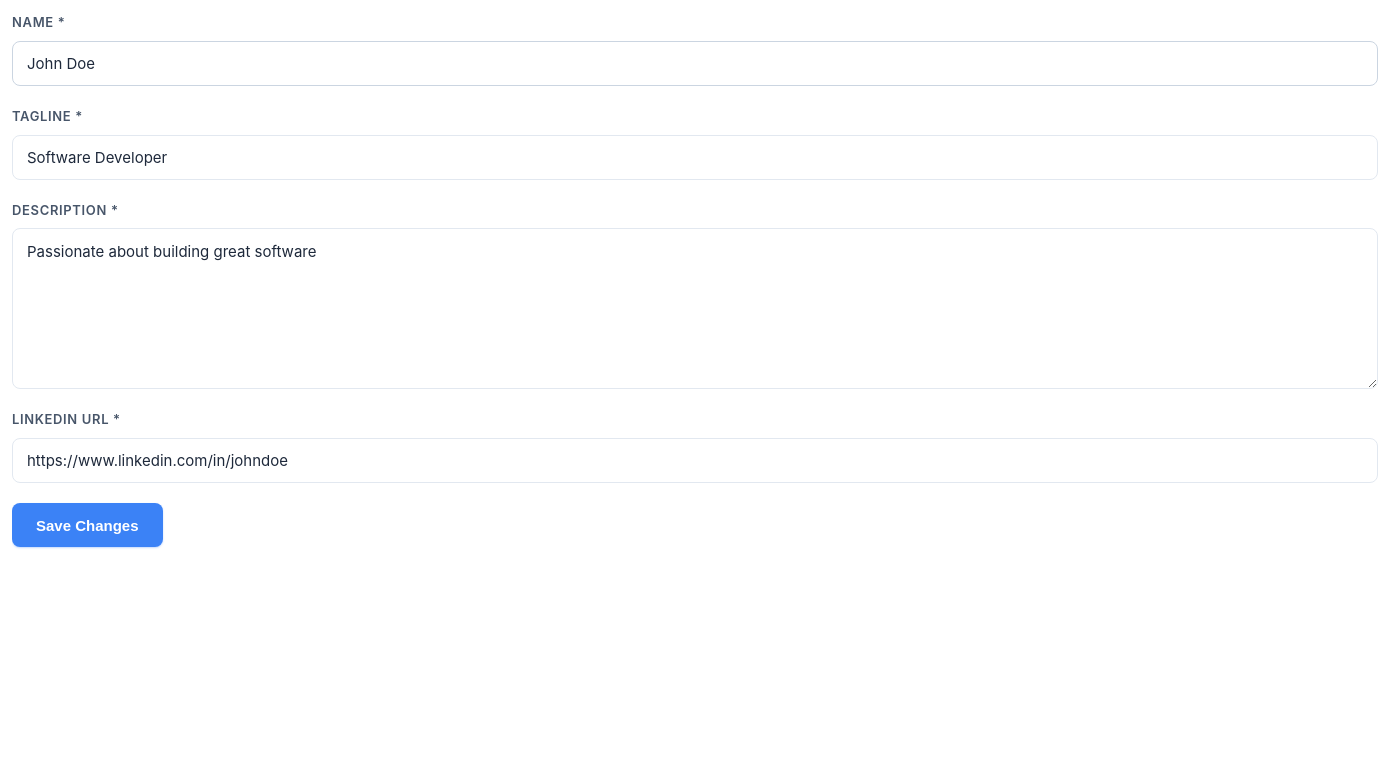
PersonalInfoForm › displays validation errors for empty required fields
Step 1. Clear the field labelled "Name *" → (695, 63), box [12,41,1378,86]
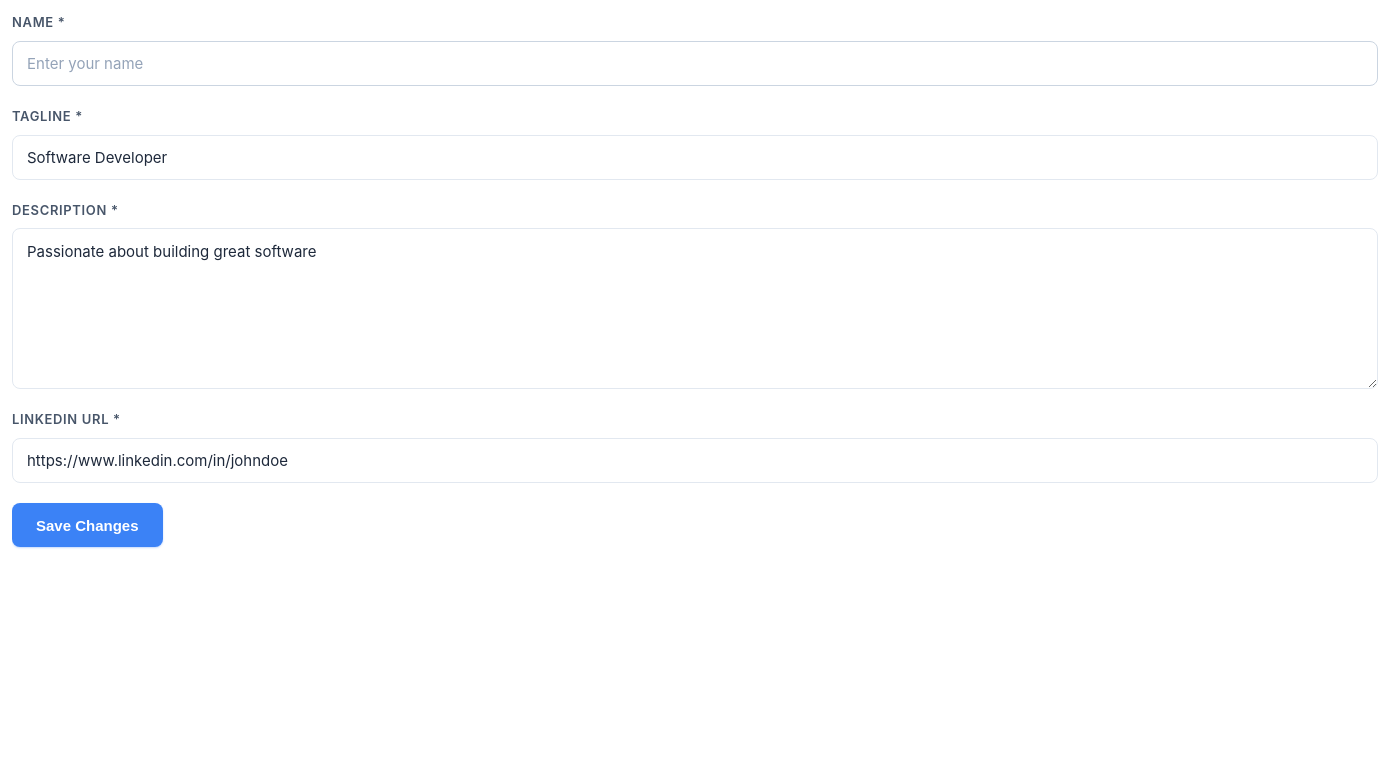
Step 2. Clear the field labelled "Tagline *" → (695, 157), box [12,135,1378,180]
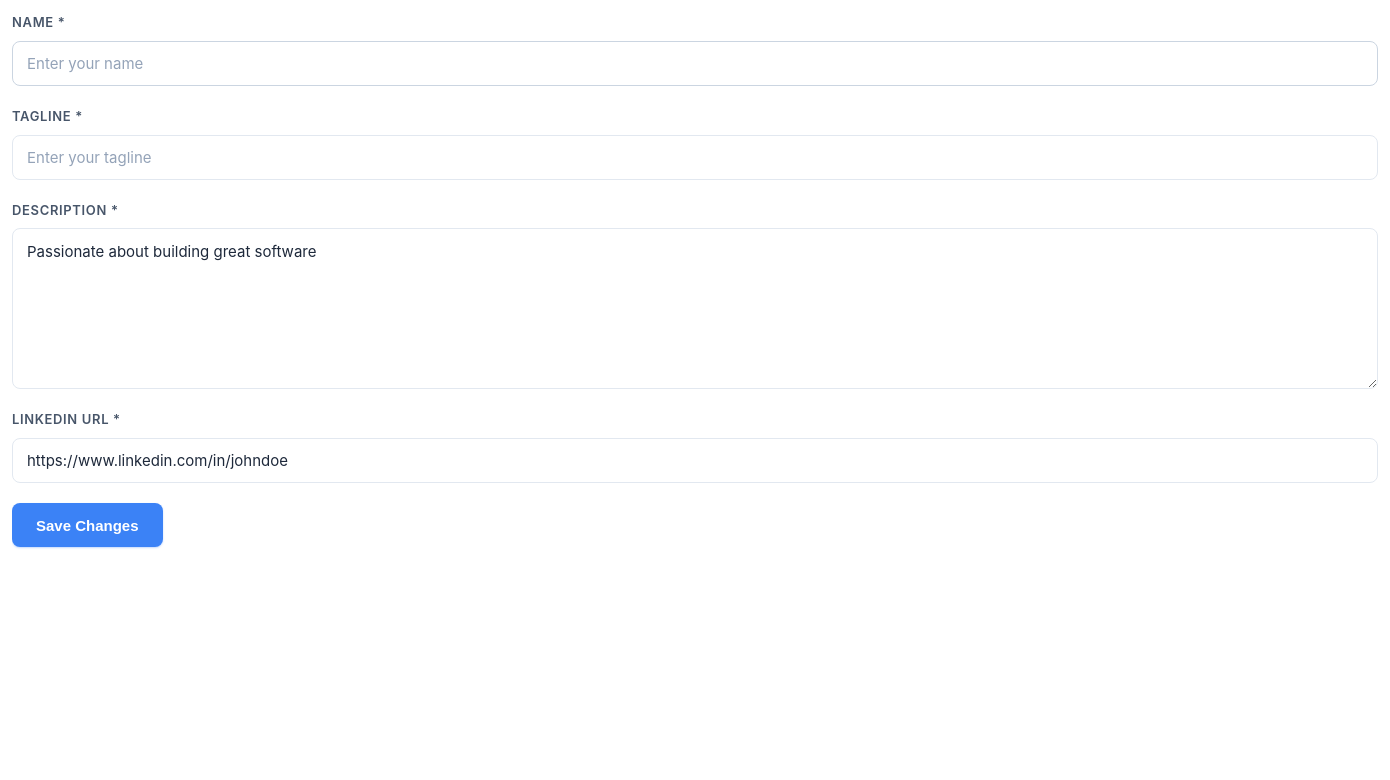
Step 3. Clear the text box labelled "Description *" → (695, 309), box [12,228,1378,389]
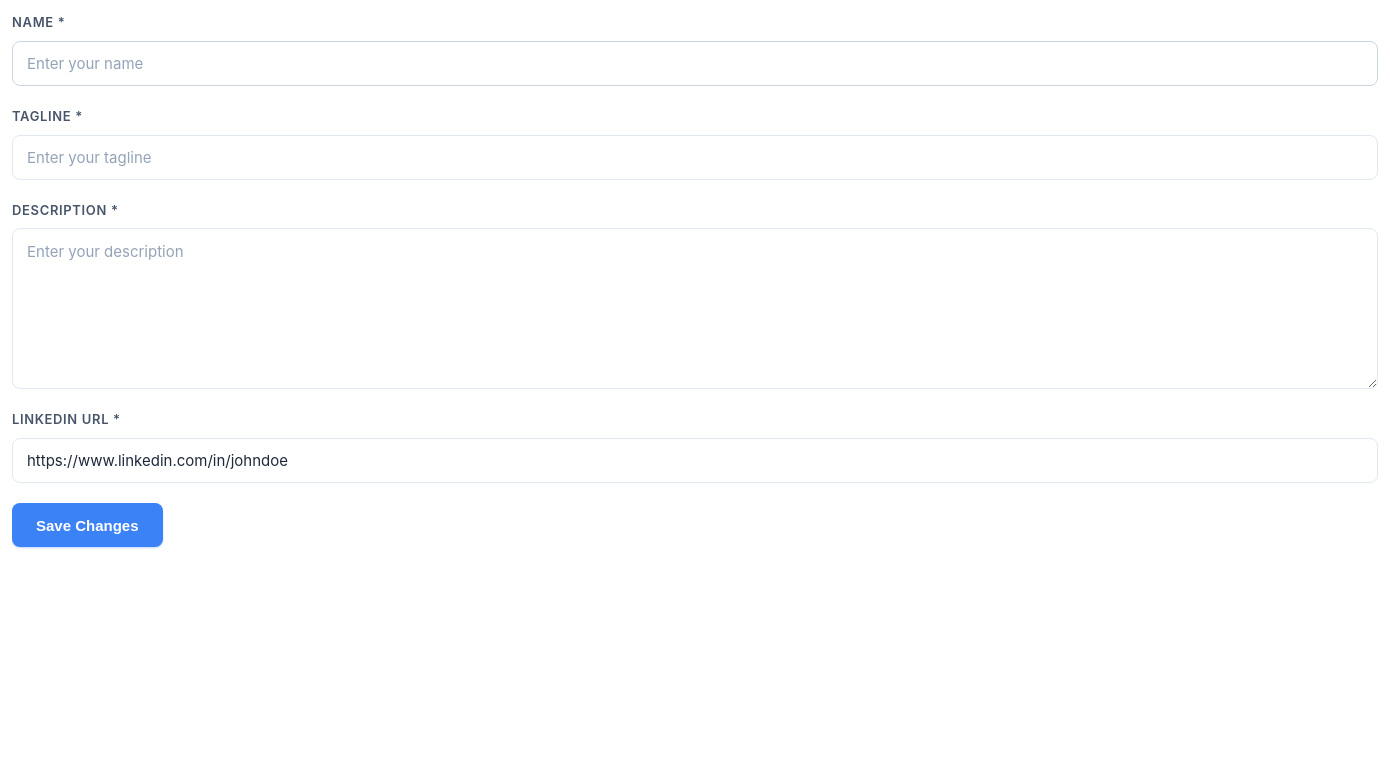
Step 4. Clear the field labelled "LinkedIn URL *" → (695, 461), box [12,438,1378,483]
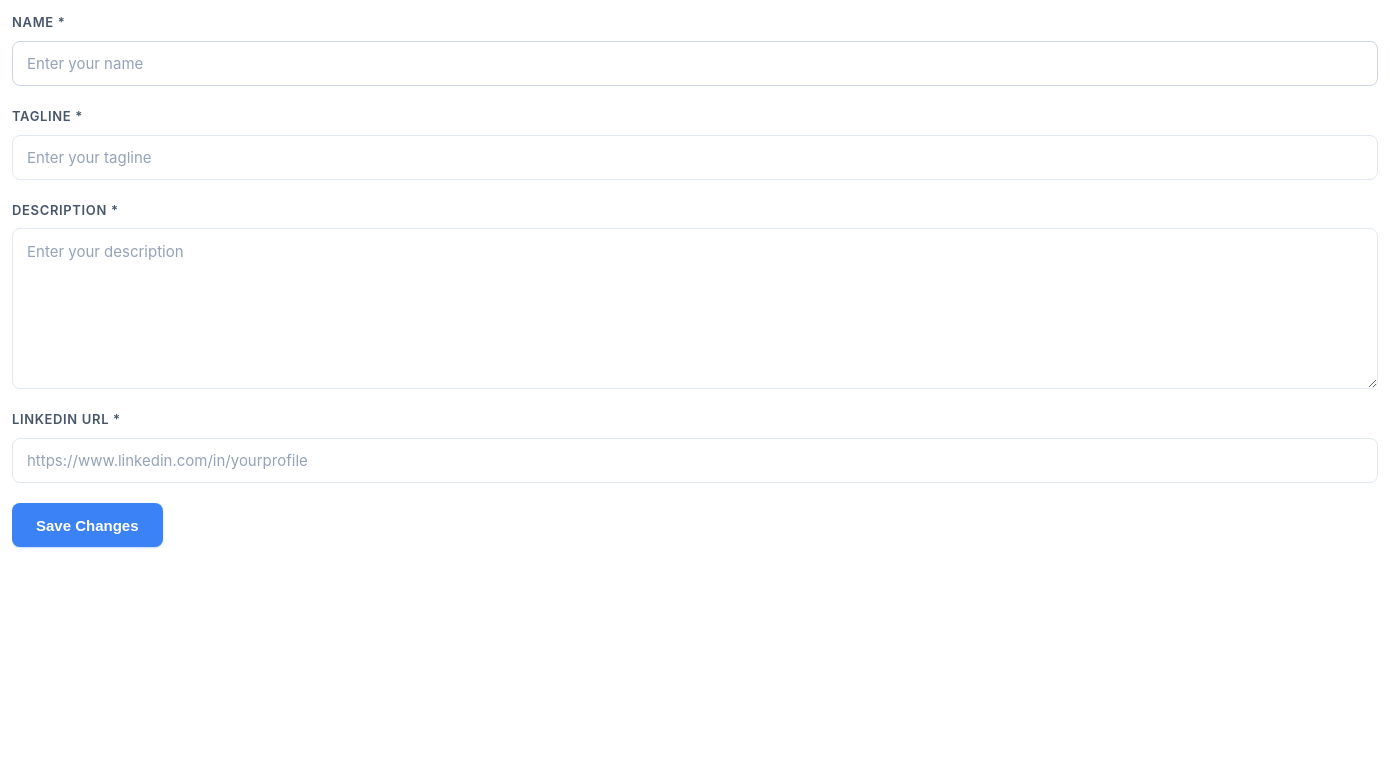
Note: Submit form
Step 5. Click the button "Save Changes" → (87, 525), box [12,503,162,547]
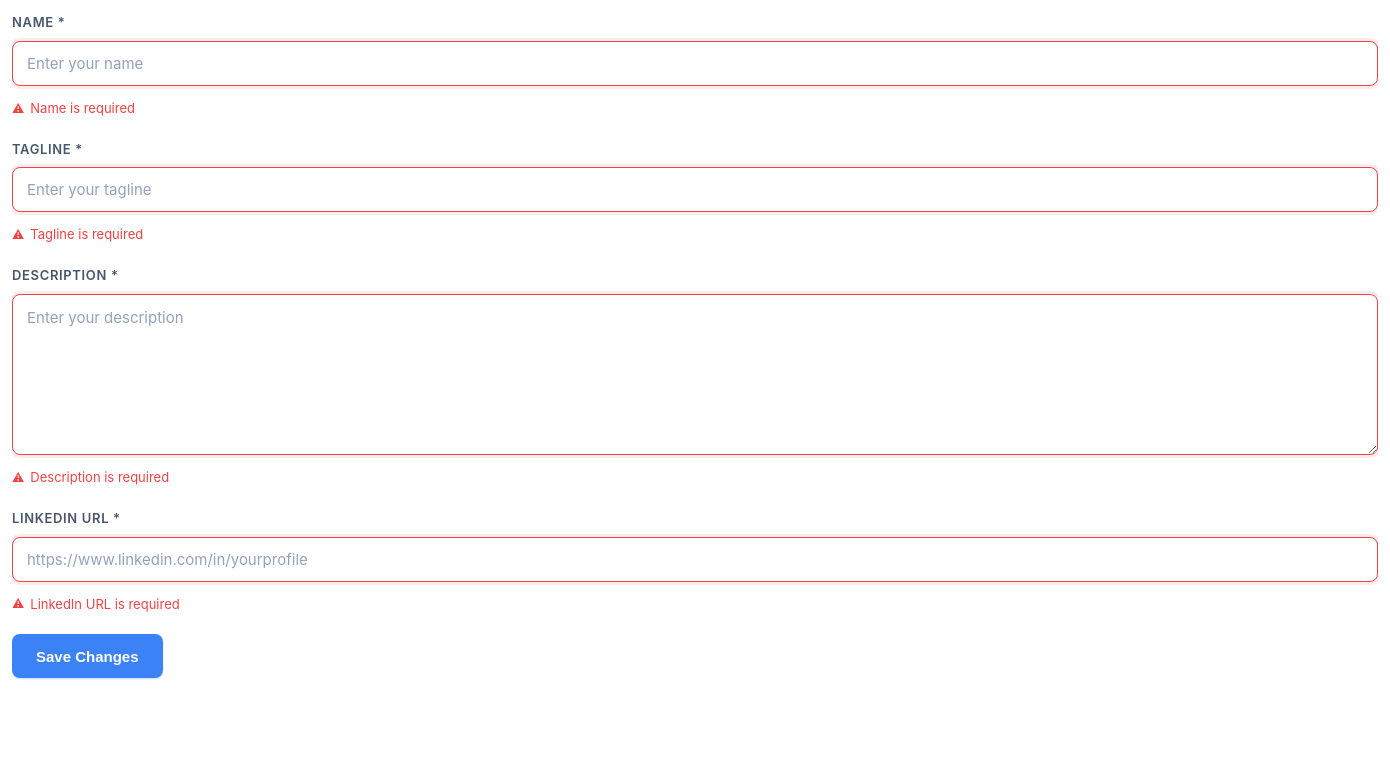
Check: the text "Name is required" is shown, box [30,100,135,116]
Check: the text "Tagline is required" is shown, box [30,226,143,242]
Check: the text "Description is required" is shown, box [30,469,169,485]
